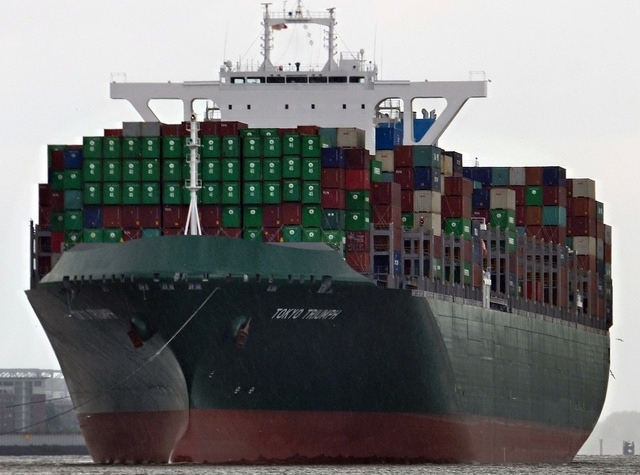container_ship: (26, 4, 614, 468)
